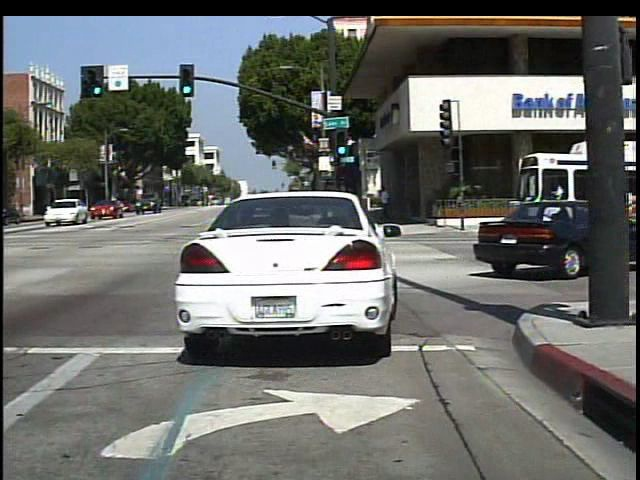person: (377, 182, 395, 225)
